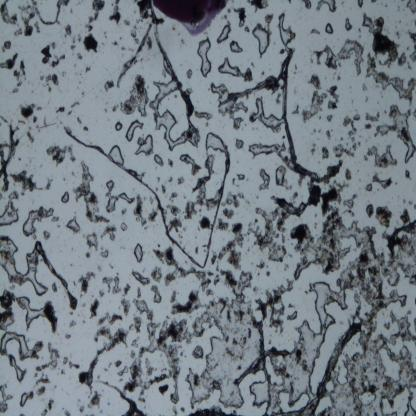Air bubble: (298, 282, 348, 344), (0, 234, 48, 298), (148, 77, 186, 148), (334, 332, 364, 388), (389, 103, 416, 165), (252, 96, 284, 132), (0, 331, 39, 360), (379, 385, 416, 414), (22, 206, 54, 239), (377, 344, 403, 381), (18, 296, 45, 330), (275, 13, 294, 56), (0, 191, 20, 227), (278, 390, 310, 412), (248, 142, 286, 159), (196, 36, 212, 76), (252, 23, 270, 56), (220, 100, 250, 119), (249, 378, 268, 408), (217, 55, 242, 76), (8, 354, 25, 383), (0, 0, 18, 27), (314, 392, 334, 415), (134, 135, 154, 157), (210, 80, 229, 103), (179, 152, 198, 174), (125, 120, 143, 141), (108, 144, 124, 165), (0, 312, 15, 334), (104, 192, 118, 214), (258, 168, 271, 191), (133, 240, 144, 267), (358, 390, 376, 406), (316, 0, 338, 13), (132, 270, 151, 285), (66, 215, 81, 233), (275, 164, 287, 186), (216, 25, 231, 42), (404, 396, 416, 416), (228, 40, 244, 54), (119, 192, 134, 204), (153, 153, 164, 168), (345, 13, 353, 33), (324, 21, 334, 36), (20, 392, 29, 408), (105, 178, 115, 192), (329, 377, 338, 392), (287, 310, 298, 322), (61, 190, 70, 204), (364, 181, 374, 193), (115, 121, 122, 132), (357, 0, 364, 8)
Background material: (294, 213, 376, 280), (363, 52, 416, 102), (152, 245, 212, 289), (72, 160, 111, 226), (247, 206, 287, 263), (139, 318, 191, 360), (313, 38, 366, 78), (255, 279, 294, 333), (362, 14, 399, 70), (384, 256, 416, 312), (315, 212, 344, 272), (357, 250, 385, 309), (184, 173, 218, 220), (218, 221, 245, 271), (159, 341, 180, 403), (120, 74, 150, 117), (381, 220, 416, 256), (220, 269, 255, 303), (387, 307, 416, 346), (93, 325, 131, 354), (10, 171, 52, 196), (321, 179, 348, 217), (170, 287, 203, 318), (355, 305, 379, 347), (301, 89, 328, 126), (366, 144, 398, 168), (46, 142, 77, 166), (125, 354, 143, 392), (290, 224, 313, 251), (342, 113, 361, 142), (42, 300, 58, 334), (132, 298, 154, 322), (186, 406, 238, 416), (76, 271, 96, 296), (350, 376, 363, 414), (133, 193, 147, 227), (374, 204, 393, 228), (378, 376, 394, 404), (136, 0, 155, 23), (0, 383, 14, 414), (307, 181, 322, 209), (142, 374, 168, 390), (343, 192, 358, 219), (294, 347, 309, 374), (327, 83, 341, 111), (47, 340, 60, 369), (232, 6, 248, 29), (13, 59, 26, 87), (21, 12, 35, 38), (360, 374, 378, 394), (332, 144, 356, 159), (102, 276, 122, 294), (19, 99, 36, 120), (84, 12, 100, 34), (95, 314, 124, 326), (166, 216, 183, 236), (101, 222, 117, 243), (86, 390, 102, 410), (84, 33, 99, 54), (110, 0, 122, 26), (0, 53, 18, 70), (40, 43, 52, 67), (232, 307, 246, 327), (373, 175, 393, 189), (150, 282, 162, 305), (247, 0, 270, 12), (374, 124, 392, 139), (222, 193, 240, 208), (192, 342, 205, 362), (409, 27, 416, 64), (149, 265, 164, 282), (240, 66, 255, 83), (51, 52, 66, 69), (86, 232, 99, 251), (193, 110, 213, 122), (44, 73, 60, 88), (364, 109, 380, 124), (34, 373, 52, 386), (89, 298, 100, 319), (165, 203, 181, 217), (309, 74, 323, 90), (120, 296, 131, 316), (130, 27, 141, 46), (396, 51, 407, 70), (199, 214, 211, 231), (216, 217, 229, 232), (342, 166, 354, 182), (129, 318, 141, 334), (232, 114, 244, 130), (400, 208, 412, 224), (148, 208, 158, 226), (218, 296, 228, 314), (18, 2, 32, 14), (99, 245, 110, 260), (42, 80, 52, 96), (264, 12, 276, 25), (168, 289, 178, 304), (157, 384, 169, 396), (223, 207, 234, 220), (102, 360, 113, 372), (104, 79, 114, 92), (406, 0, 416, 13), (36, 363, 52, 371), (193, 372, 201, 388), (64, 23, 72, 39), (366, 204, 375, 218), (226, 307, 232, 327), (92, 1, 105, 10), (146, 37, 154, 51), (123, 282, 131, 296), (132, 336, 140, 350), (13, 28, 23, 39), (302, 0, 312, 11), (225, 347, 235, 358), (235, 138, 244, 150), (166, 156, 175, 168), (213, 272, 220, 287), (48, 397, 56, 410), (236, 172, 246, 182), (72, 34, 82, 44), (70, 99, 80, 109), (36, 386, 46, 396), (118, 367, 129, 376), (168, 191, 177, 202), (69, 361, 80, 370), (323, 146, 330, 160), (186, 67, 194, 79), (240, 336, 248, 348), (84, 63, 92, 75), (292, 103, 300, 115), (310, 142, 317, 155), (34, 21, 41, 34), (257, 260, 266, 270), (68, 319, 77, 329), (309, 28, 320, 36), (55, 106, 66, 114), (361, 81, 369, 92), (326, 113, 334, 124), (171, 404, 178, 416), (279, 233, 286, 245), (325, 130, 332, 142), (404, 168, 411, 180), (112, 103, 120, 113), (231, 337, 239, 347), (137, 396, 147, 404), (114, 358, 122, 368), (76, 116, 84, 126), (264, 268, 272, 278), (135, 287, 142, 298), (205, 288, 214, 296), (364, 122, 373, 130), (52, 281, 58, 293), (244, 25, 252, 34), (63, 407, 72, 415), (49, 41, 57, 50), (160, 184, 166, 196), (35, 105, 44, 113), (121, 206, 128, 216), (120, 222, 127, 232), (32, 114, 39, 124), (235, 362, 242, 372), (247, 326, 252, 340), (178, 174, 184, 185), (384, 320, 390, 331), (130, 348, 136, 359), (64, 332, 72, 340), (12, 86, 20, 94), (51, 215, 60, 222), (149, 194, 154, 206), (28, 390, 34, 400), (211, 253, 216, 265), (60, 366, 66, 376), (96, 266, 103, 274), (66, 109, 73, 117), (84, 251, 92, 258), (396, 28, 401, 39), (225, 333, 230, 344), (98, 289, 104, 298), (77, 53, 83, 62), (79, 404, 84, 414), (194, 245, 199, 255), (62, 1, 70, 7), (39, 74, 45, 82), (82, 126, 90, 132), (70, 44, 76, 52), (42, 408, 48, 416), (62, 356, 68, 364), (112, 40, 119, 46), (180, 406, 186, 413), (370, 0, 378, 5)
Cellulose filter fibre: (283, 61, 342, 182), (150, 18, 200, 146), (300, 320, 362, 415), (77, 356, 141, 414), (218, 56, 286, 104), (38, 242, 78, 310), (116, 21, 152, 90), (234, 348, 290, 386), (256, 320, 274, 416), (0, 122, 17, 193), (32, 0, 62, 28), (273, 198, 307, 218)
Cotton: (66, 126, 230, 270)
Diatom: (4, 42, 12, 50)
Pen: (153, 0, 227, 35)
